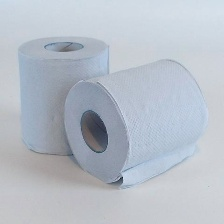tissue: (59, 54, 213, 193), (12, 30, 114, 160)
